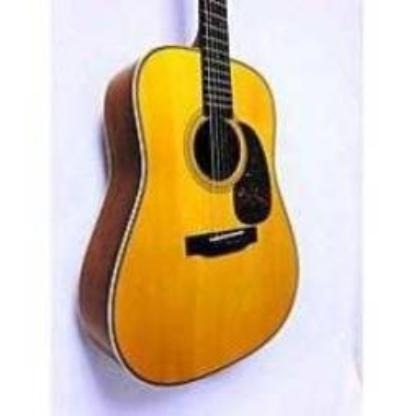acousticguitar: (78, 0, 300, 390)
